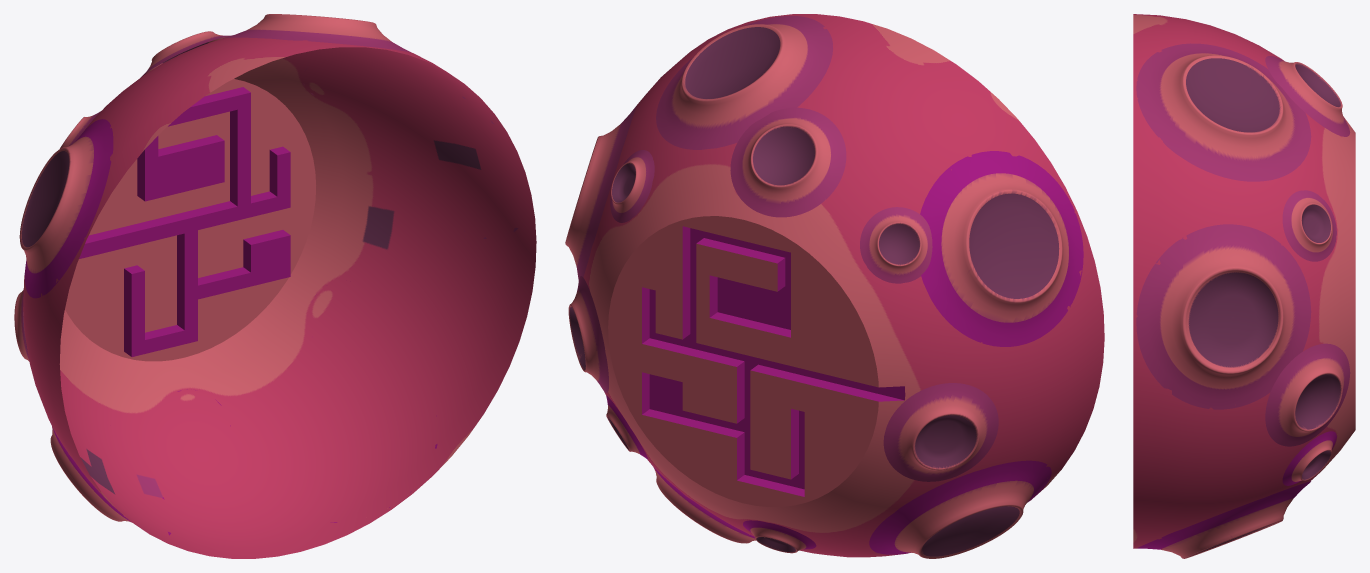
The model's file is LEVEL 1.fbx.
3 renders of one model, left to right at view 1: azimuth 30°, elevation 25°; view 2: azimuth 150°, elevation 25°; view 3: azimuth 270°, elevation 25°, orthographic. The views are drawn at different scales.
Visible parts, largest first — view 1: level v1; view 2: level v1; view 3: level v1.
Boxes of the visible parts, <box> form: level v1: <box>14,14,536,558</box>; level v1: <box>565,14,1104,558</box>; level v1: <box>1133,14,1355,558</box>.
Size of the model in its own units: 7256 by 7227 by 2993.
